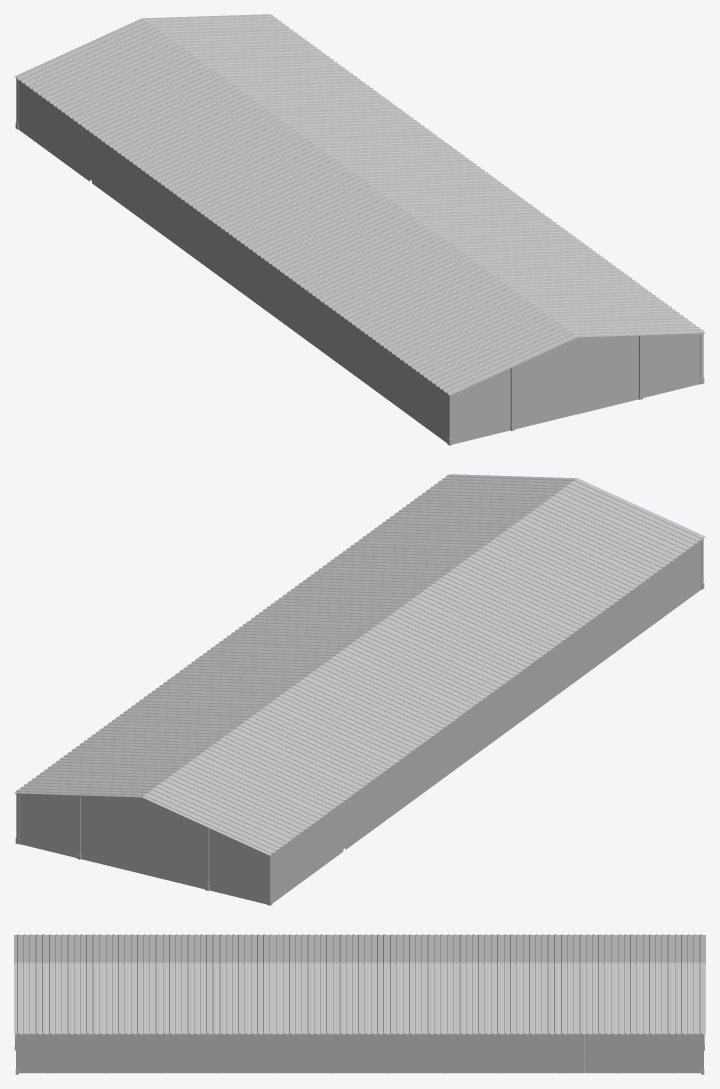
The model's file is warehouse_newmats.fbx.
3 renders of one model, top to bottom at view 1: azimuth 30°, elevation 25°; view 2: azimuth 150°, elevation 25°; view 3: azimuth 270°, elevation 25°, orthographic. The views are drawn at different scales.
Parts seen in each view (by area): view 1: floor005; view 2: floor005; view 3: floor005.
Part boxes in pixels (x1,y1,x2,y2): floor005: [14, 14, 705, 445]; floor005: [14, 474, 705, 905]; floor005: [14, 934, 705, 1074].
Size of the model in its own units: 3155 by 930 by 9301.
